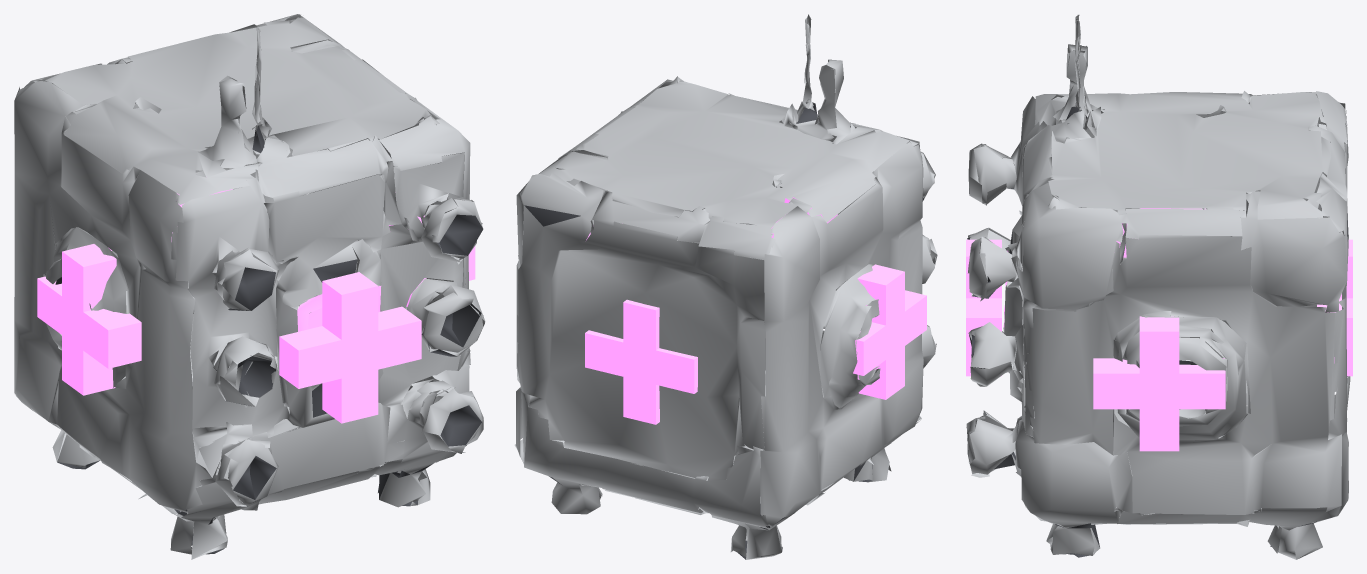
Rendered from SM_Medical_v1_slots.fbx.
3 renders of one model, left to right at view 1: azimuth 30°, elevation 25°; view 2: azimuth 150°, elevation 25°; view 3: azimuth 270°, elevation 25°, orthographic. The views are drawn at different scales.
Visible parts, largest first — view 1: SM_Medical; view 2: SM_Medical; view 3: SM_Medical.
Part boxes in pixels (x1=…): SM_Medical: x1=14, y1=14, x2=485, y2=559; SM_Medical: x1=514, y1=14, x2=937, y2=559; SM_Medical: x1=966, y1=14, x2=1352, y2=559.
Size of the model in its own units: 0.7164 by 0.9457 by 0.7019.
